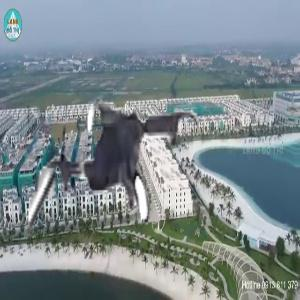drone: (26, 68, 209, 251)
